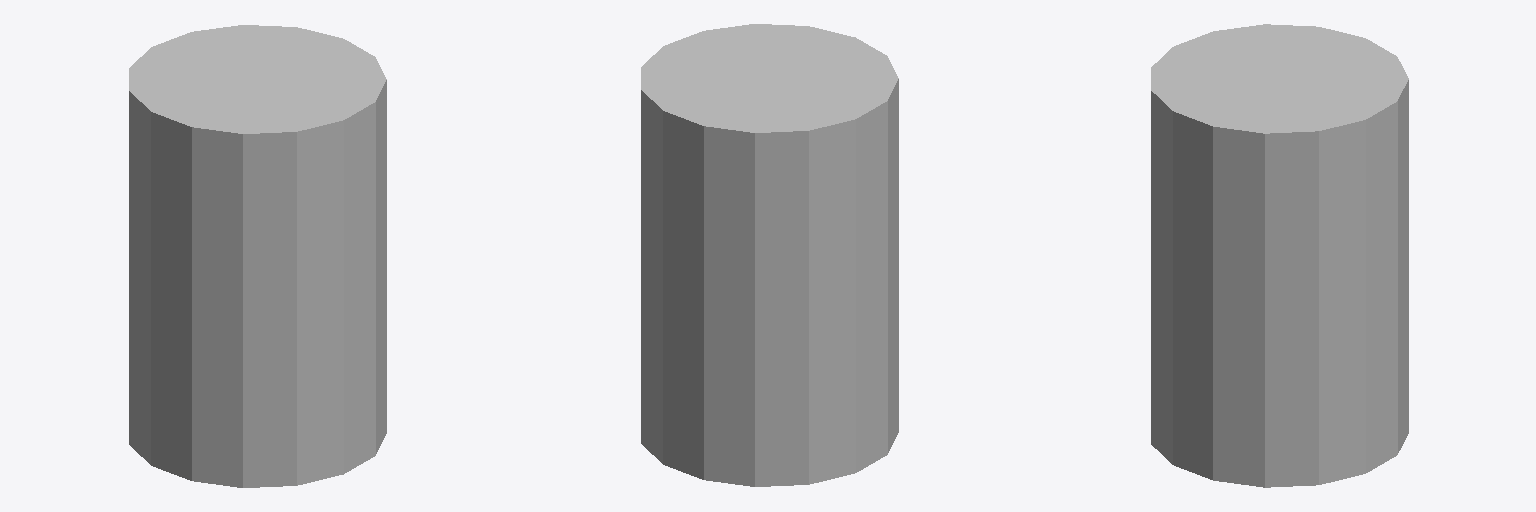
File: barrel.obj
3 views of the same model, side by side, from view 1: azimuth 30°, elevation 25°; view 2: azimuth 150°, elevation 25°; view 3: azimuth 270°, elevation 25° (orthographic).
Visible parts, largest first — view 1: Cylinder; view 2: Cylinder; view 3: Cylinder.
Boxes of the visible parts, box(x1,y1,x2,y2) form: Cylinder: box(129, 25, 386, 487); Cylinder: box(641, 24, 898, 486); Cylinder: box(1151, 24, 1408, 487).
Size of the model in its own units: 1.99 by 3 by 1.98.